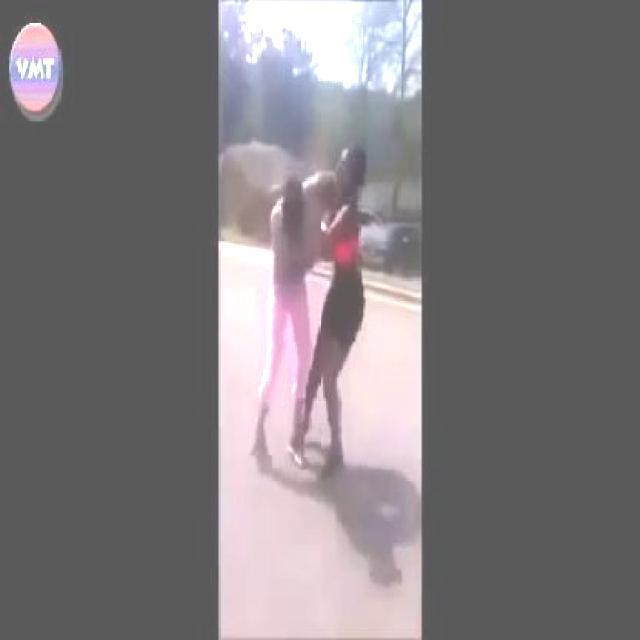fight: (250, 137, 372, 480)
